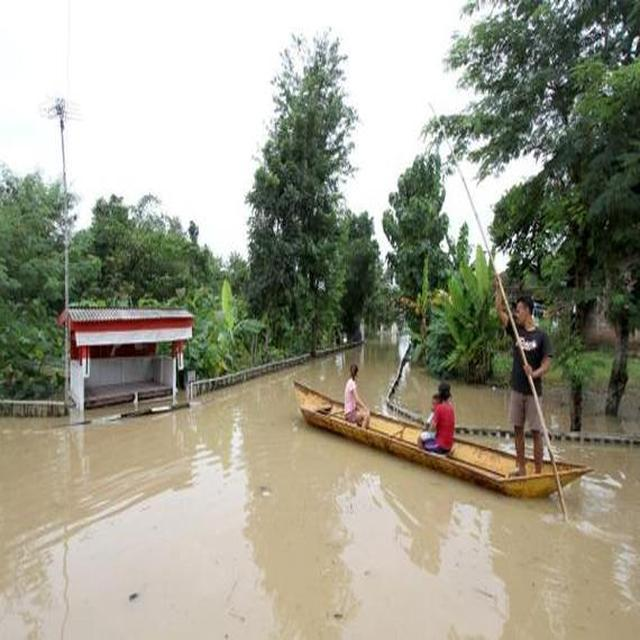Person-RiskLevel3: (491, 278, 554, 486), (410, 380, 466, 464), (334, 362, 381, 431)
